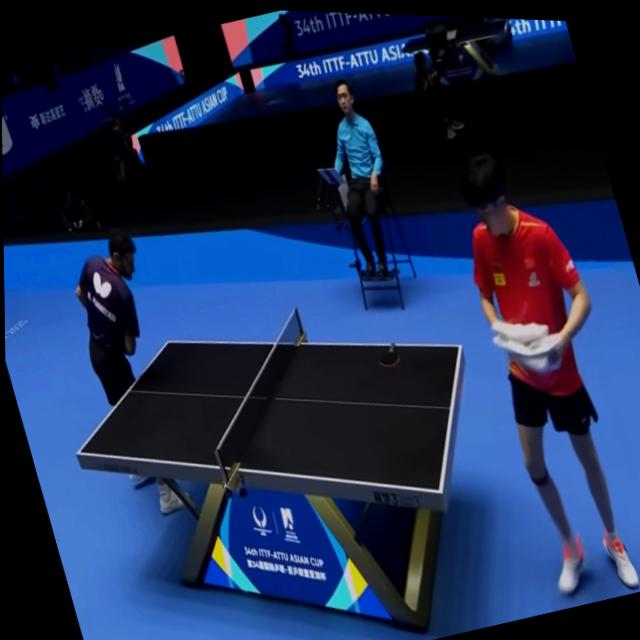TT Net: (212, 301, 307, 492)
TT Racket: (375, 348, 404, 371)
TT Table: (79, 339, 460, 492)
